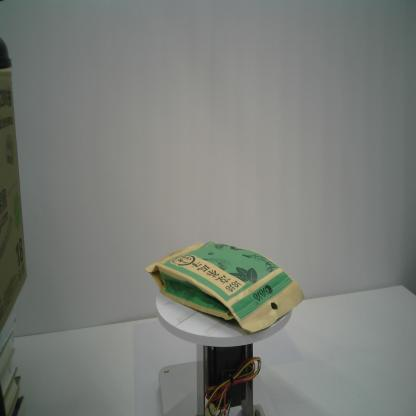Dried Food: (144, 239, 306, 335)
